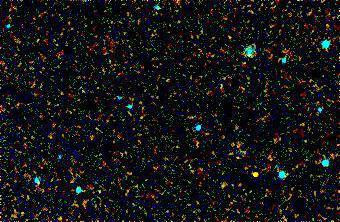star: (240, 160, 270, 190)
